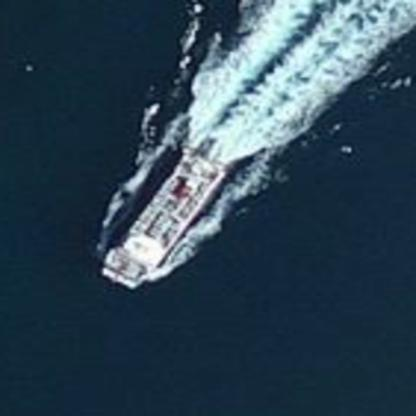ship: (94, 138, 254, 298)
